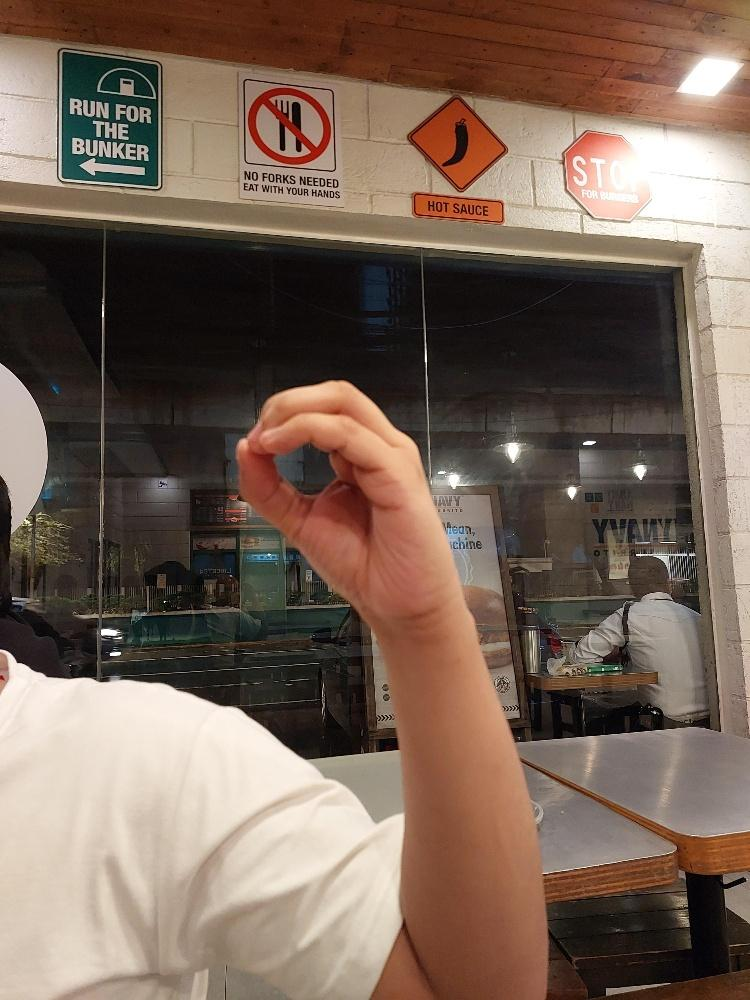o: (234, 378, 454, 617)
